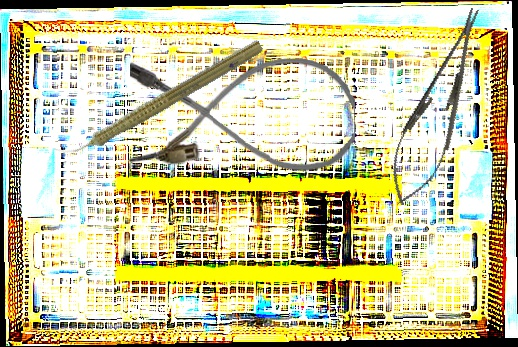Cannula: (128, 55, 356, 172)
Handpiece: (52, 31, 266, 171)
Needle Holder: (376, 0, 501, 214)
